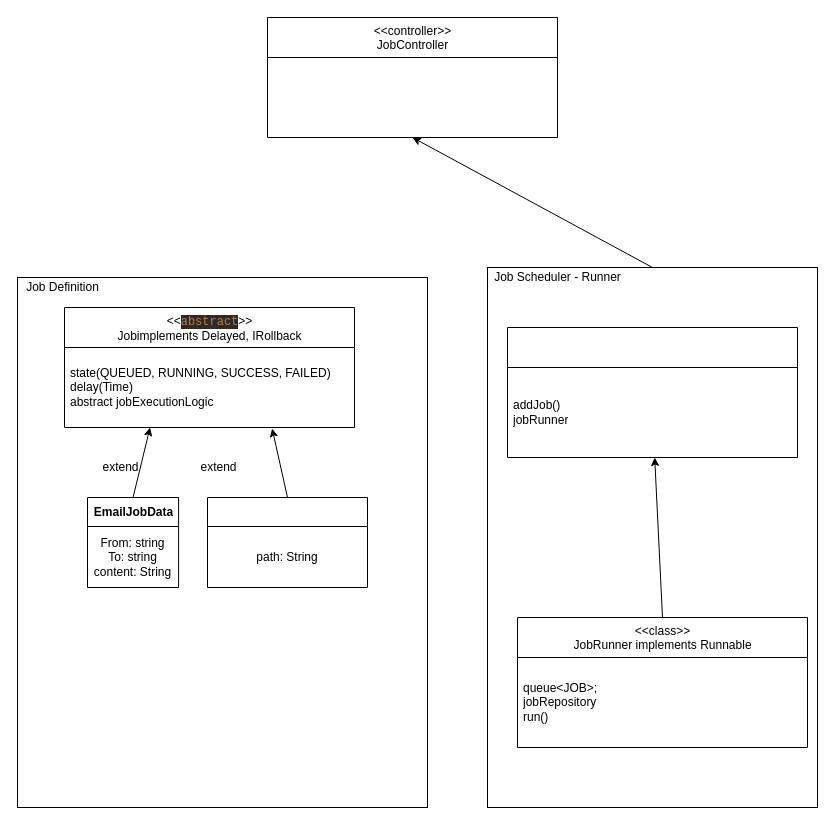
The diagram is 835 pixels wide and 825 high, and some of its shapes have lost their labels. Here are the shapes that lost their labels. From the top down, the box of each, then its label:
(506, 326, 798, 458): <<class>> JobManager
(206, 496, 368, 588): LoadDataFromSourceJob
